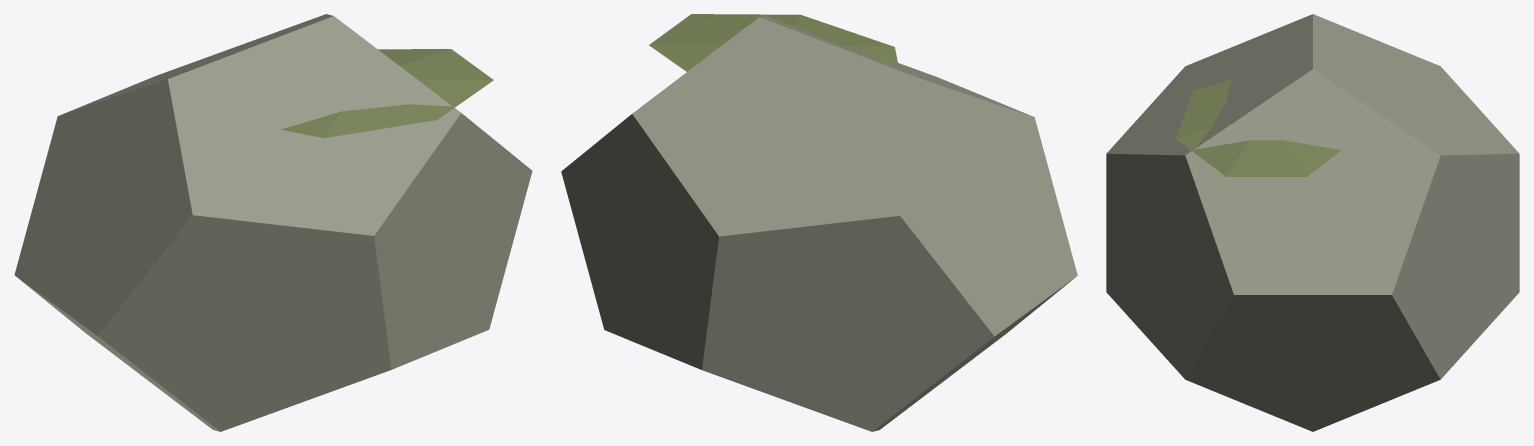
Rendered from rock-round.glb.
3 renders of one model, left to right at view 1: azimuth 30°, elevation 25°; view 2: azimuth 150°, elevation 25°; view 3: azimuth 270°, elevation 25°, orthographic. The views are drawn at different scales.
Visible parts, largest first — view 1: rock-round_mesh; view 2: rock-round_mesh; view 3: rock-round_mesh.
Part boxes in pixels (x1,y1,x2,y2): rock-round_mesh: [14, 14, 532, 431]; rock-round_mesh: [561, 14, 1077, 431]; rock-round_mesh: [1106, 14, 1519, 431].
Bounding box in the file's own units: 0.8151 × 0.6891 × 0.71.
